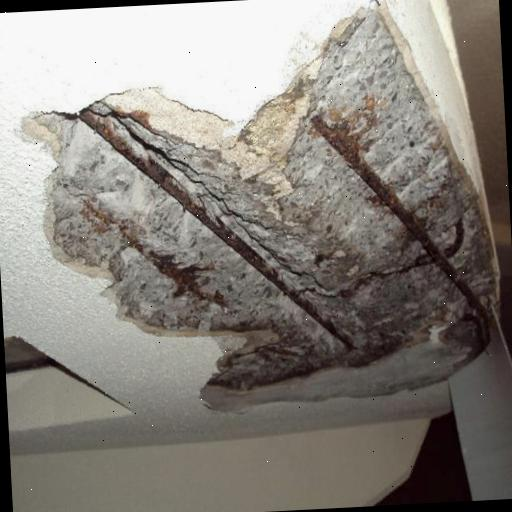spalling: (17, 0, 498, 414)
